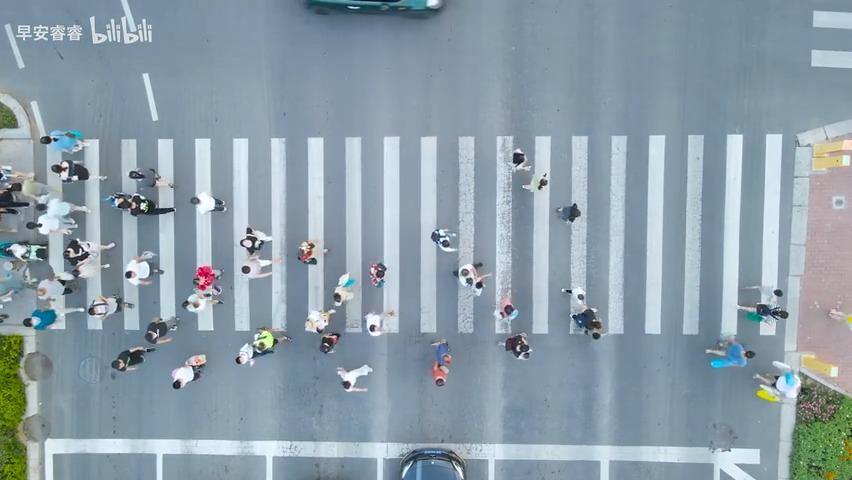Civilian: (25, 197, 90, 235), (234, 326, 292, 366), (561, 286, 602, 339), (735, 285, 789, 325), (181, 265, 224, 312), (752, 360, 801, 401), (22, 301, 84, 330), (705, 333, 755, 368), (104, 192, 176, 216), (57, 238, 121, 264), (124, 250, 164, 286), (452, 261, 491, 296), (7, 237, 52, 267), (87, 293, 134, 321), (50, 159, 107, 182), (171, 353, 206, 389), (39, 129, 89, 154), (29, 275, 76, 300), (111, 345, 155, 371), (429, 337, 452, 386), (240, 253, 281, 279), (335, 363, 373, 391), (239, 226, 272, 257), (497, 332, 532, 360), (128, 167, 174, 188), (364, 309, 396, 336), (297, 239, 330, 265), (190, 191, 227, 214), (332, 271, 356, 306), (144, 316, 173, 344), (304, 308, 336, 333), (430, 228, 458, 252), (493, 296, 518, 322), (827, 307, 851, 331), (555, 202, 581, 223), (511, 147, 532, 173), (521, 172, 548, 190), (319, 331, 340, 354), (369, 261, 387, 287)
